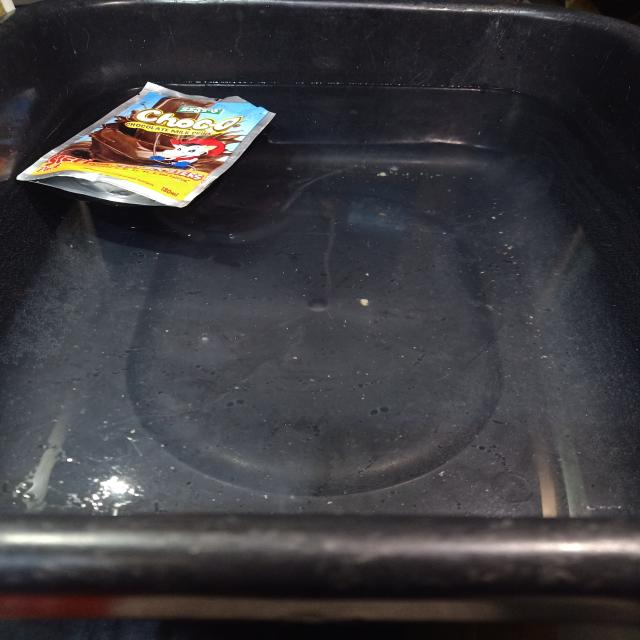Plastic Pouch: (16, 82, 274, 207)
